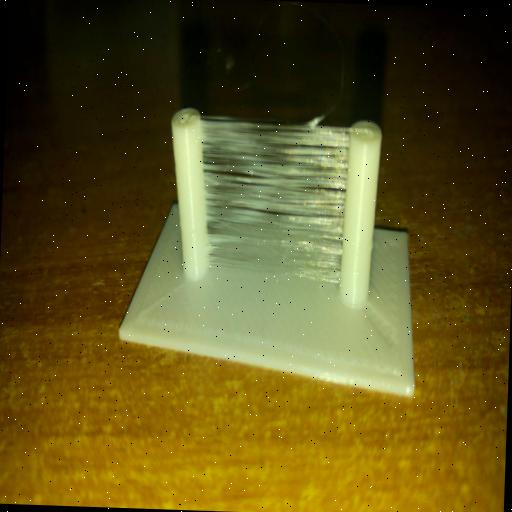stringing: (201, 119, 348, 289)
